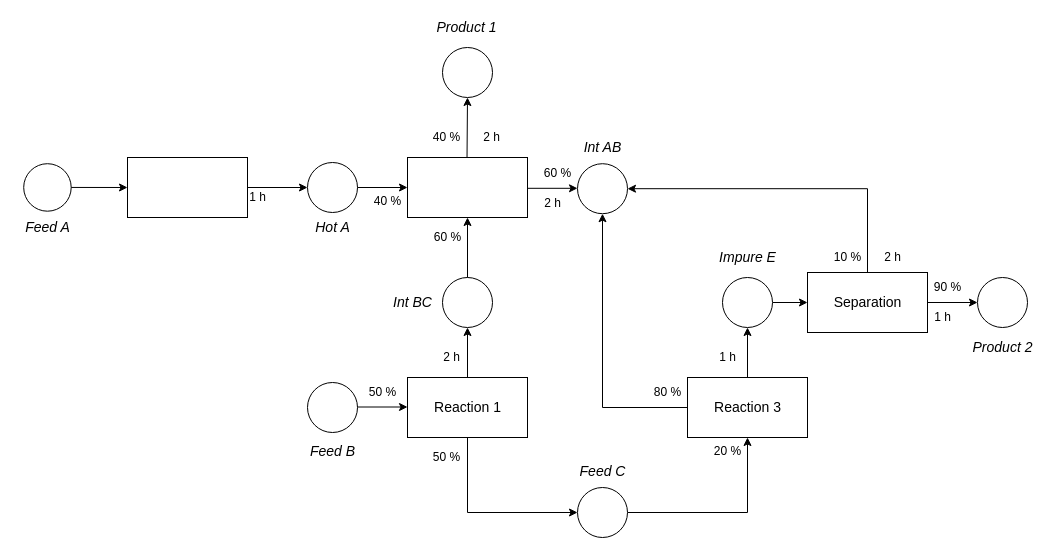
This 1059x555 diagram has some shape labels left out. The shapes that lost their labels are listed below. From the top down, each one's centre as x and y in pixels, then its label:
At (x=187, y=187): "Heating".
At (x=467, y=187): "Reaction 2".
